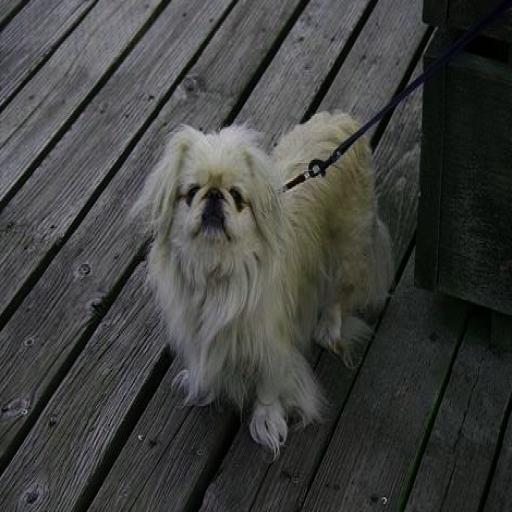dog_face: (138, 124, 279, 272)
